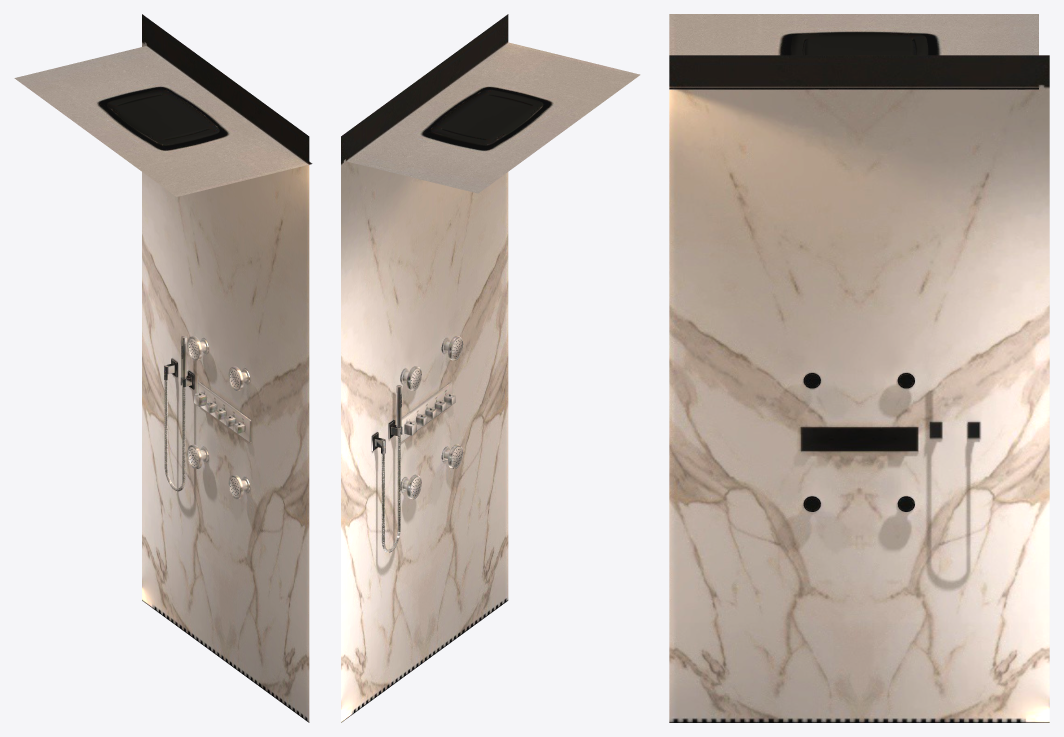
The model's file is Rain_Spa_Combination.glb.
3 views of the same model, side by side, from view 1: azimuth 30°, elevation 25°; view 2: azimuth 150°, elevation 25°; view 3: azimuth 270°, elevation 25° (orthographic). The views are drawn at different scales.
Visible parts, largest first — view 1: Rain_Spa_Combination; view 2: Rain_Spa_Combination; view 3: Rain_Spa_Combination.
Part boxes in pixels (<box>): Rain_Spa_Combination: <box>14,14,312,722</box>; Rain_Spa_Combination: <box>341,14,640,722</box>; Rain_Spa_Combination: <box>669,14,1049,722</box>.
Bounding box in the file's own units: 0.7526 × 3.1 × 1.6.
Materials: 1 (1 with a texture image).
